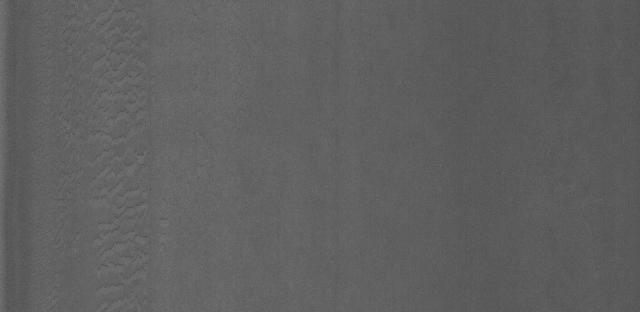silk_spot: (53, 10, 182, 295)
